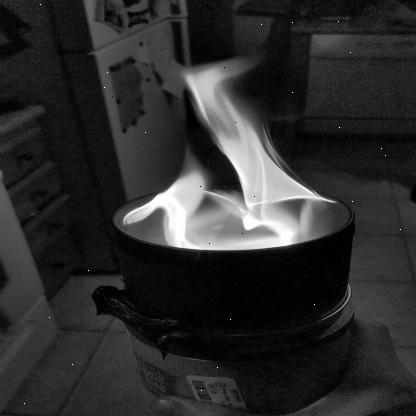fire: (119, 59, 342, 251)
